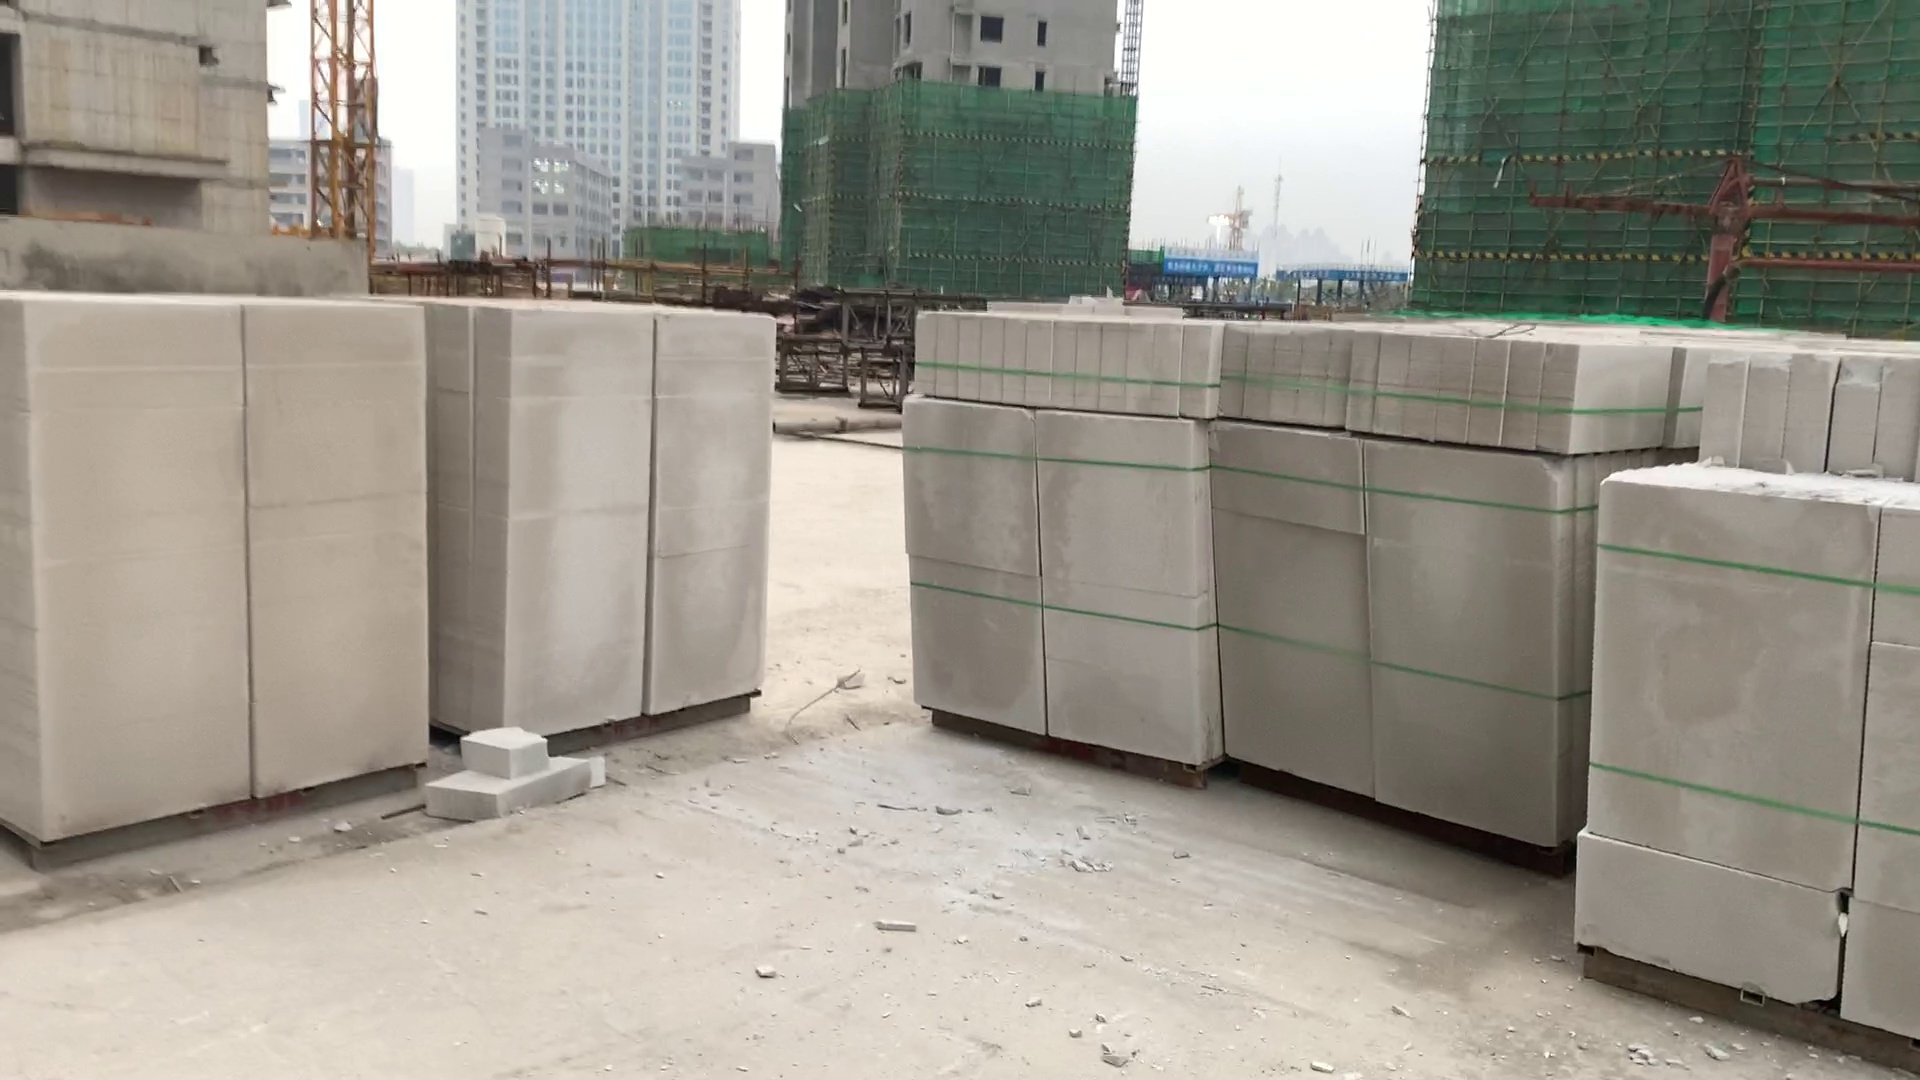brickwork: (3, 291, 433, 837), (1592, 361, 1920, 1039), (1222, 316, 1578, 860), (899, 302, 1216, 783), (450, 303, 767, 756)
